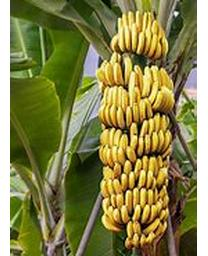banana: (94, 4, 174, 252)
